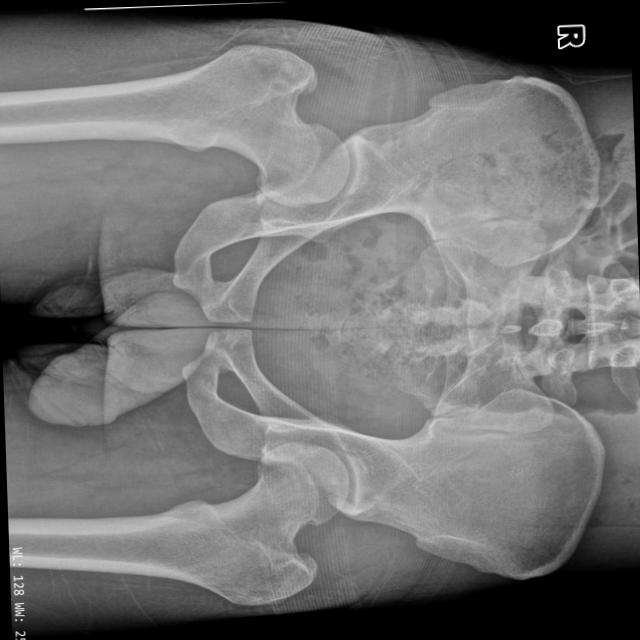normal-left: (7, 441, 348, 606)
normal-right: (0, 44, 349, 205)
